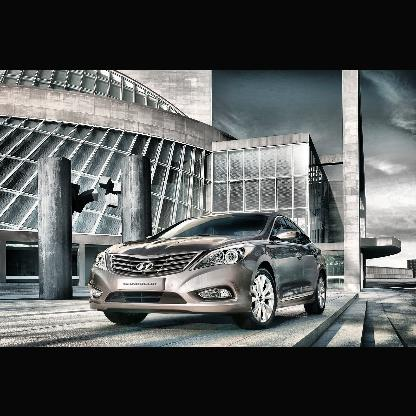Hyundai Azera Sedan 2012: (88, 213, 328, 333)
